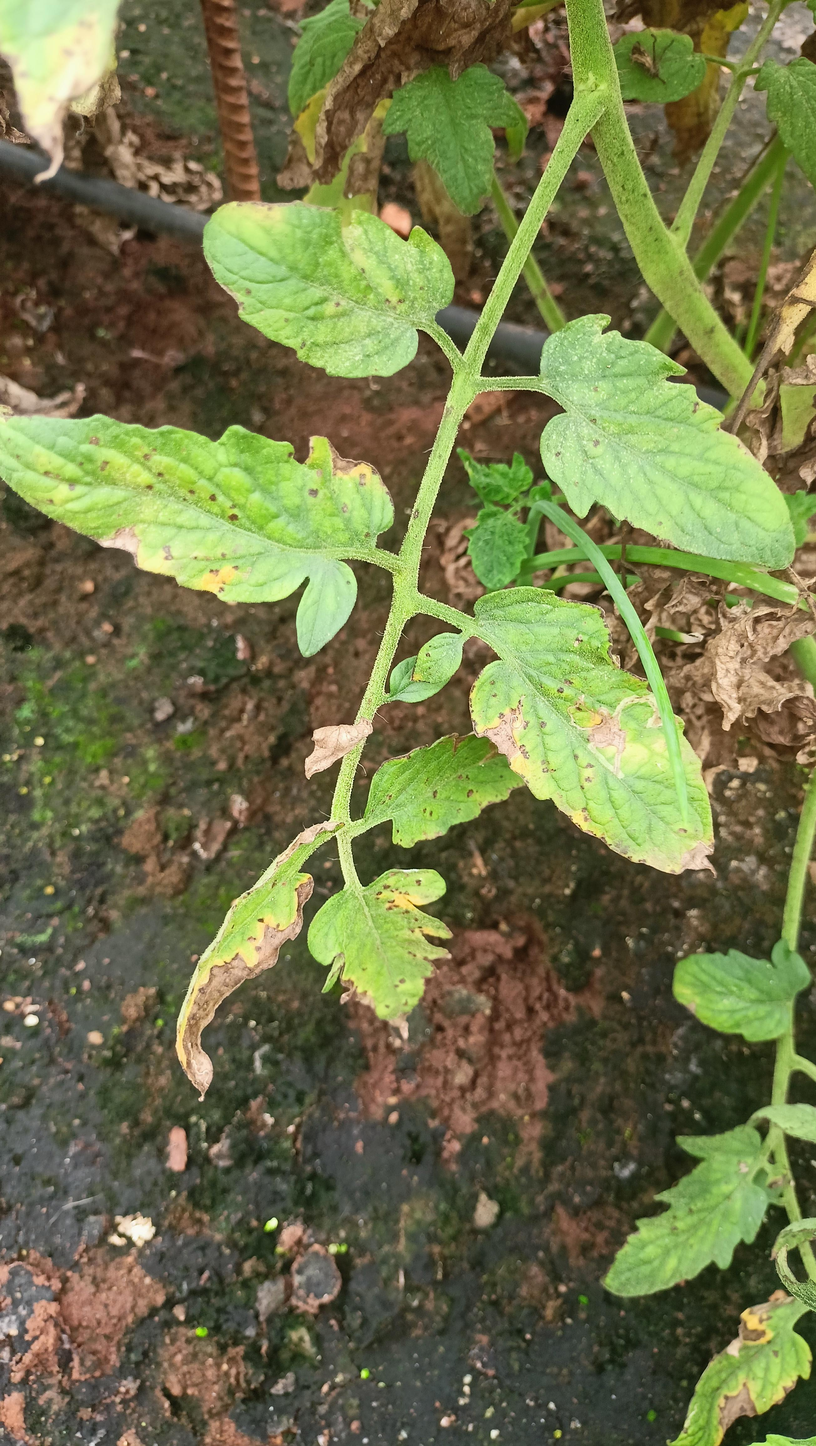Early Blight: (0, 407, 397, 655), (466, 580, 718, 879), (170, 830, 313, 1105), (306, 861, 456, 1042)
